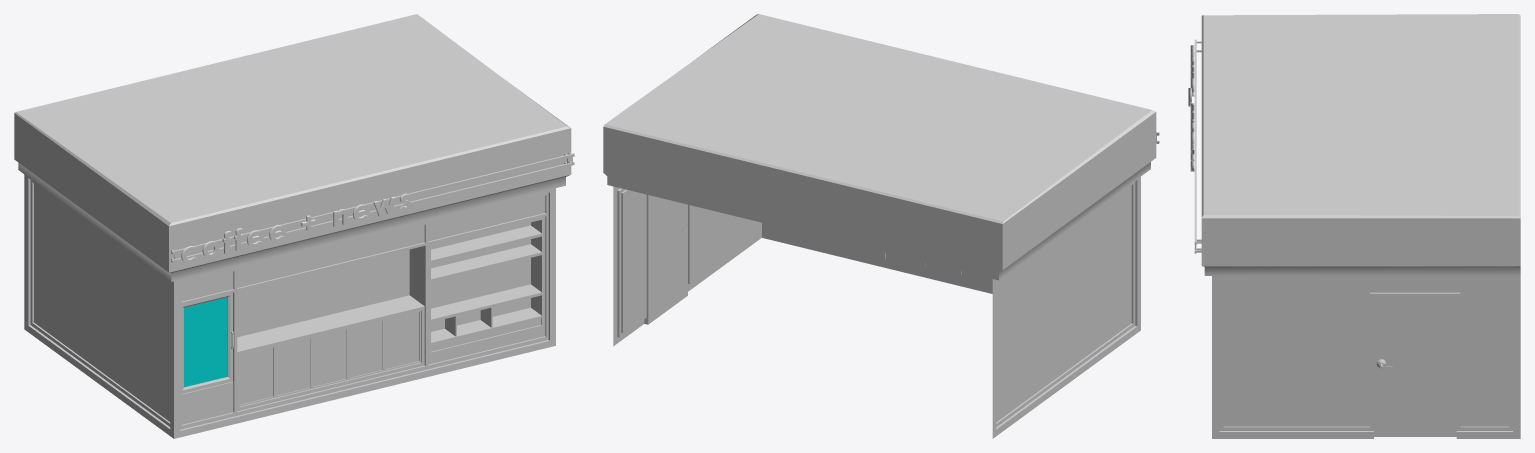
Rendered from Concessions.fbx.
The picture shows the model from 3 angles, left to right: view 1: azimuth 30°, elevation 25°; view 2: azimuth 150°, elevation 25°; view 3: azimuth 270°, elevation 25°; orthographic projection. The views are drawn at different scales.
Visible parts, largest first — view 1: Concessions; view 2: Concessions; view 3: Concessions.
Boxes of the visible parts, x1=… form: Concessions: x1=14, y1=14, x2=574, y2=438; Concessions: x1=603, y1=14, x2=1159, y2=438; Concessions: x1=1188, y1=14, x2=1520, y2=438.
Bounding box in the file's own units: 621 × 326 × 431.
